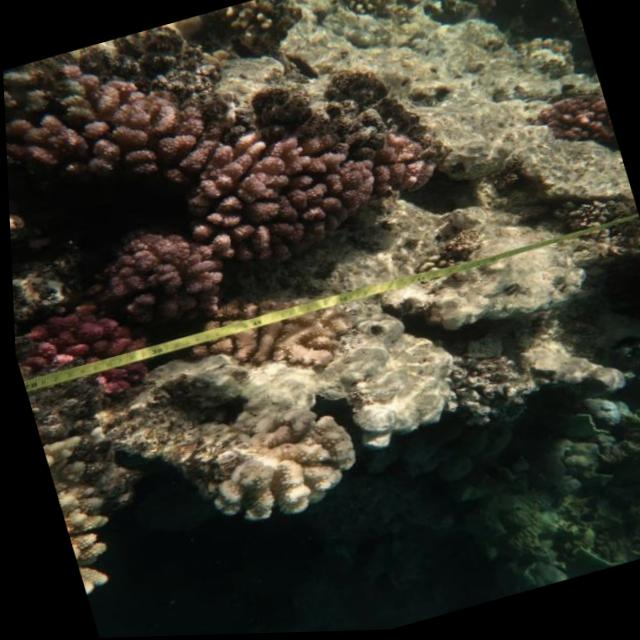Healthy Coral: (166, 86, 452, 288), (7, 66, 181, 198), (17, 285, 154, 407), (87, 228, 209, 336)
